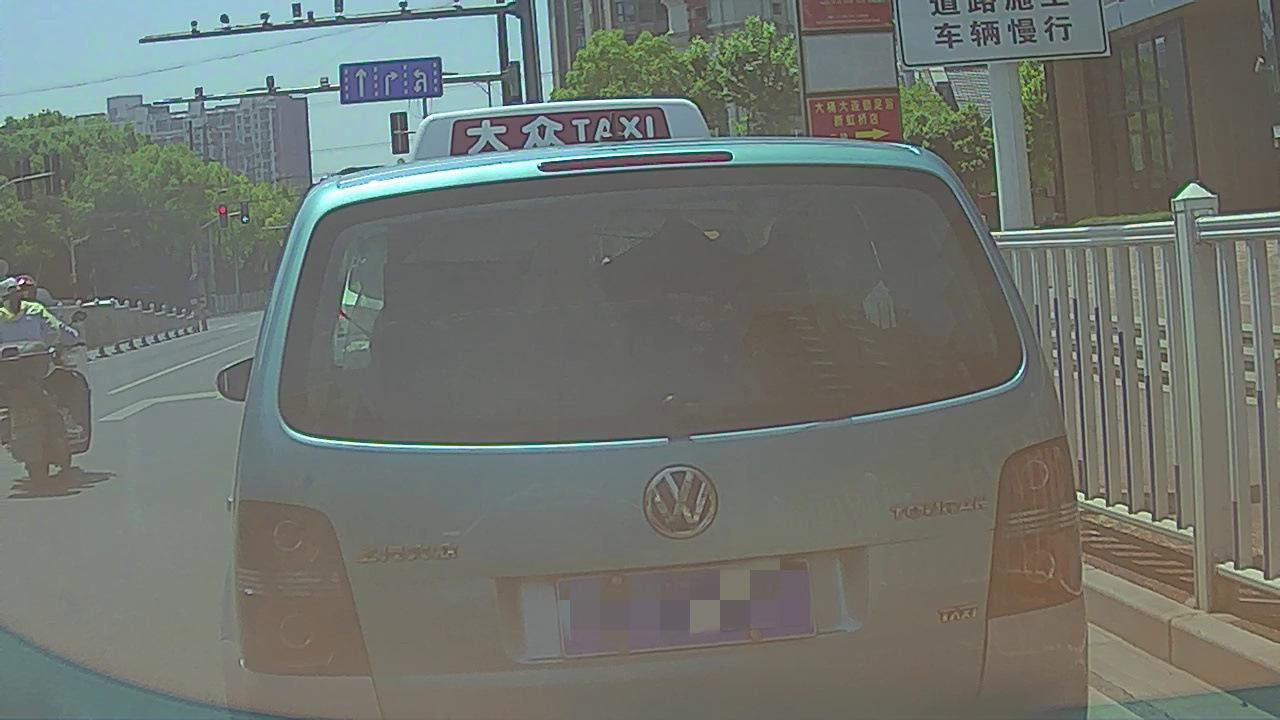traffic_light: (218, 205, 227, 230), (240, 203, 250, 225)
